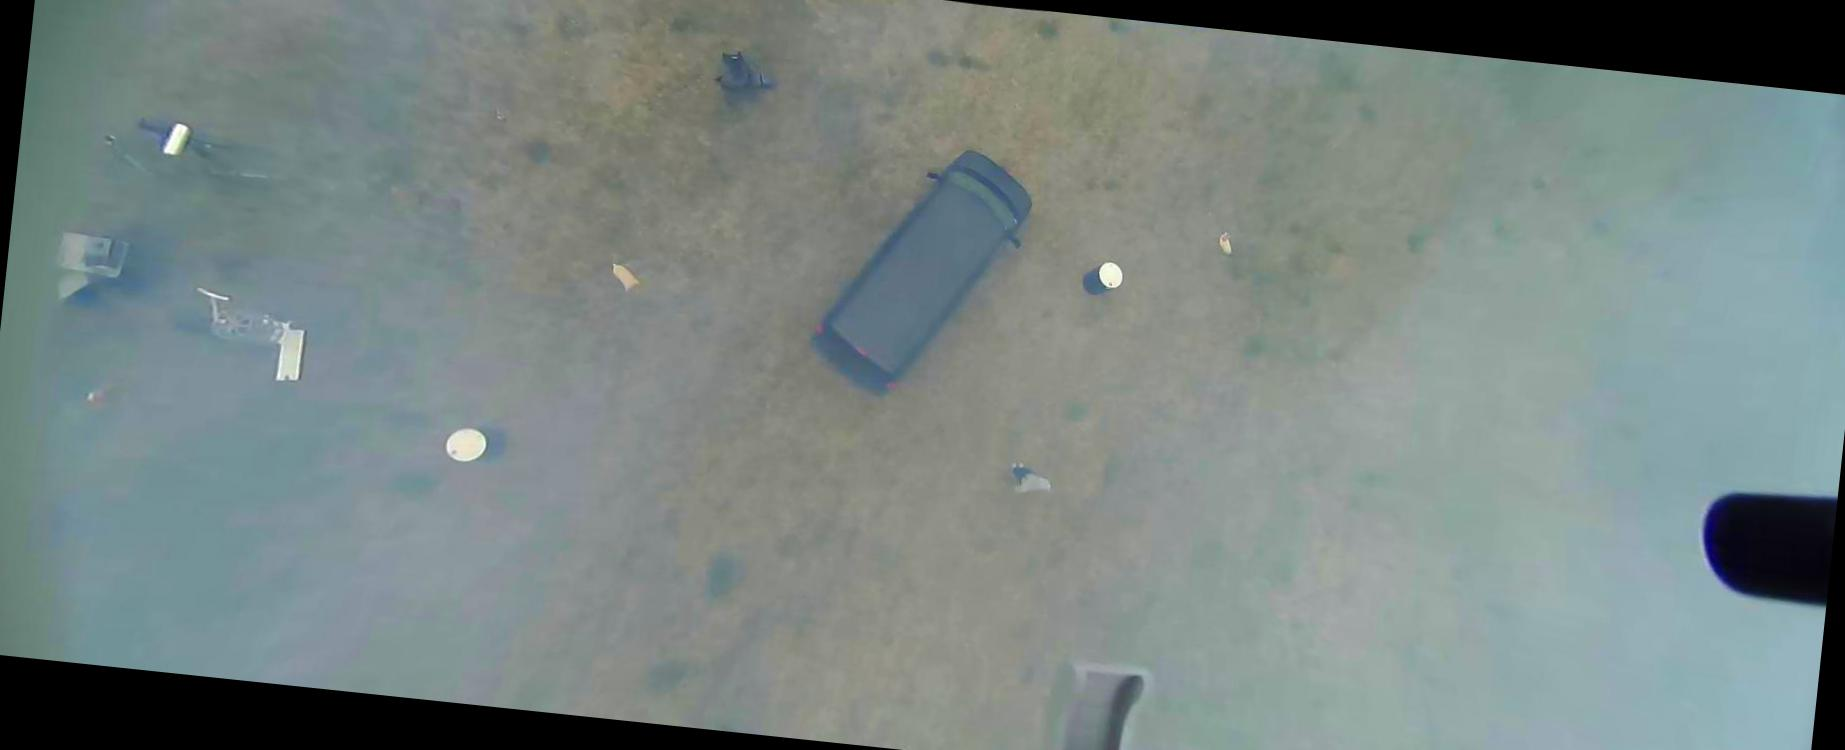vehicle: (807, 134, 1039, 410)
